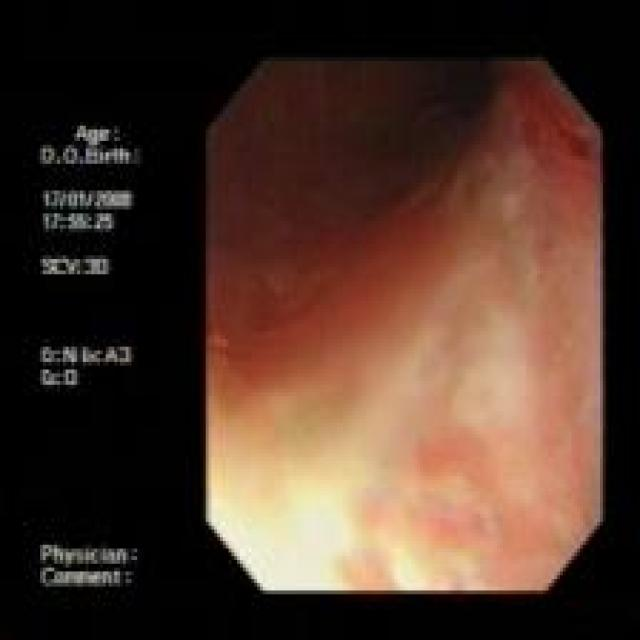blur: (206, 58, 602, 591)
color misalignment: (35, 100, 152, 599)
contrast: (208, 57, 502, 250)
saturation: (208, 362, 532, 588)
